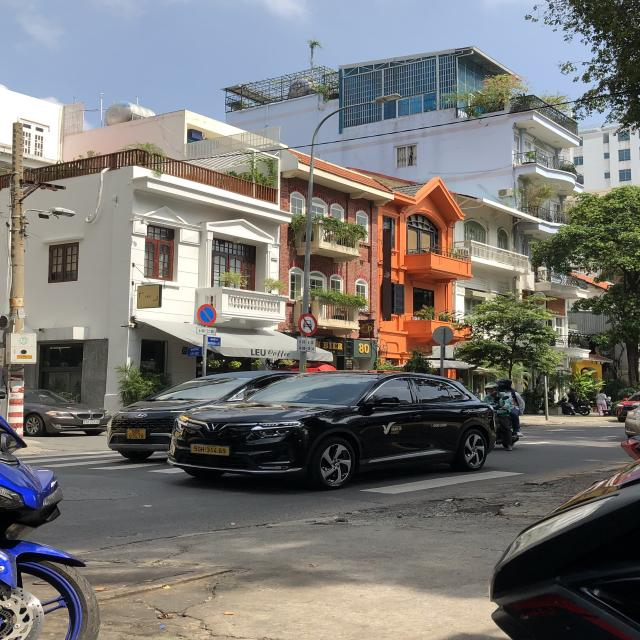Bien bao cam do xe: (196, 302, 220, 327)
Bien bao cam xe oto: (298, 312, 319, 337)
